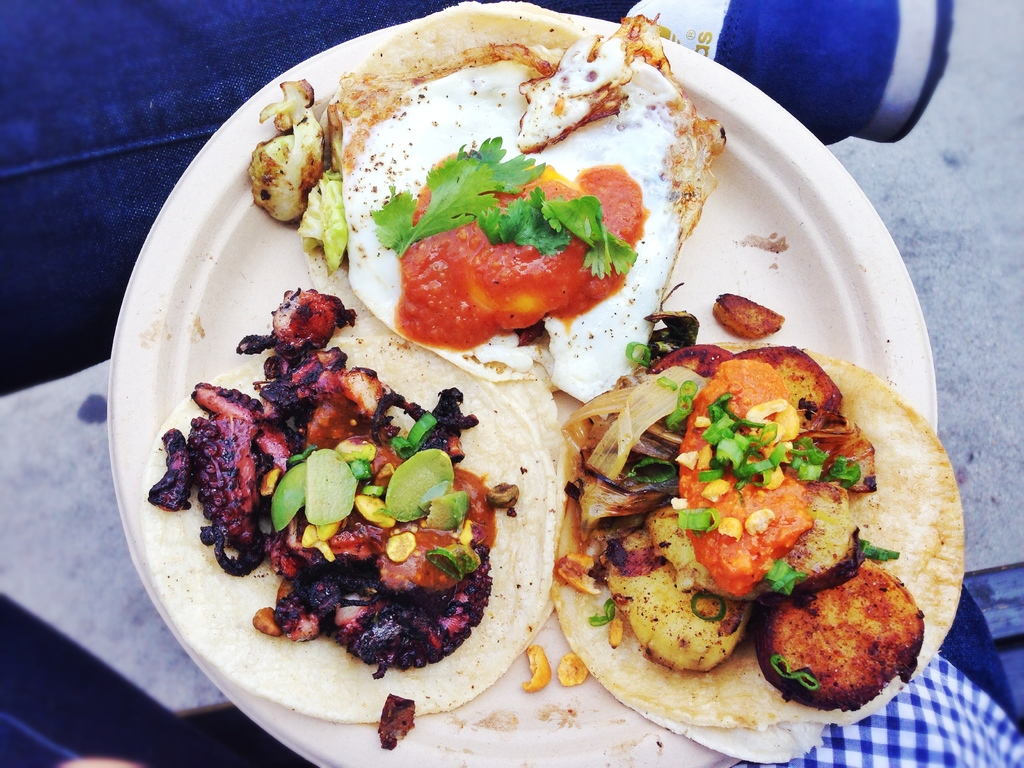taco: (156, 50, 920, 742)
